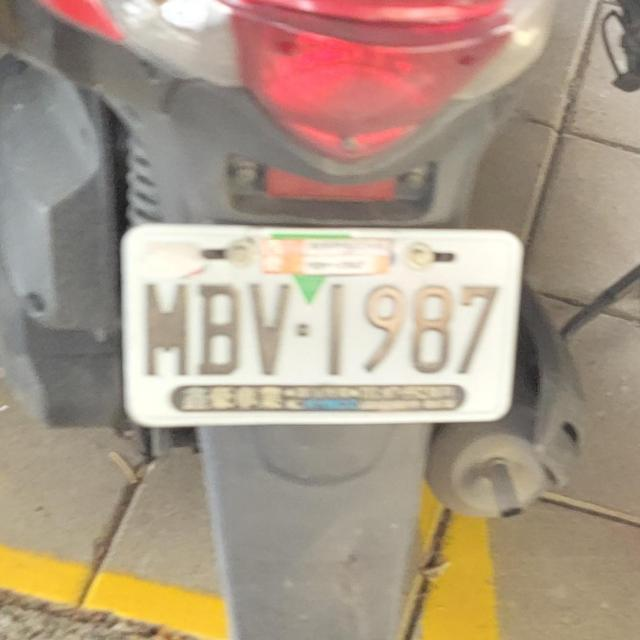W: (106, 201, 536, 442)
